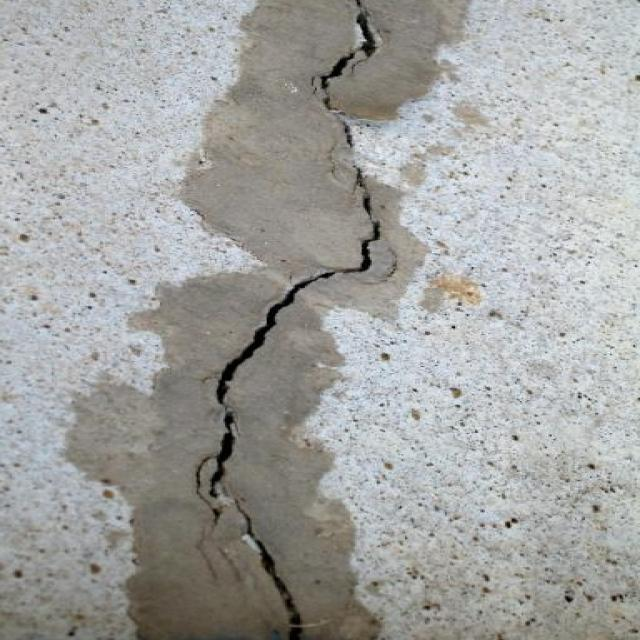crack: (194, 4, 396, 639)
